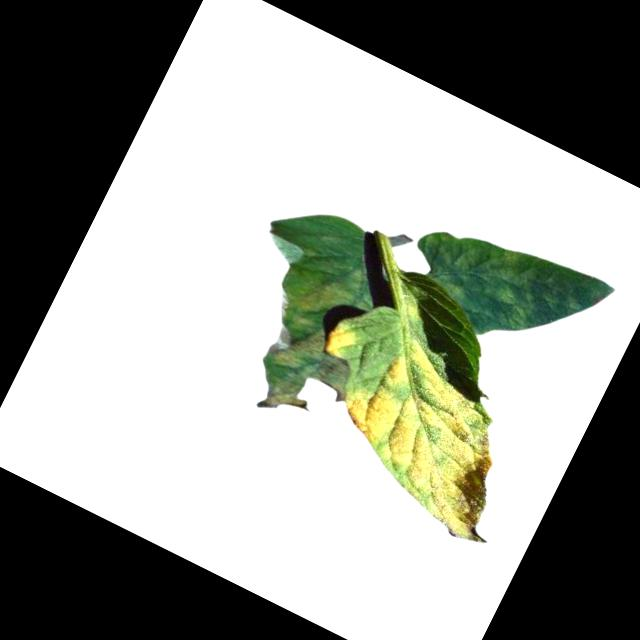Leaf_Mold: (313, 322, 554, 550), (397, 200, 616, 380), (228, 248, 398, 442)
